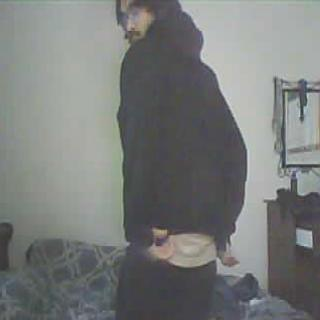Navy Sweatpants: (118, 258, 217, 320)
